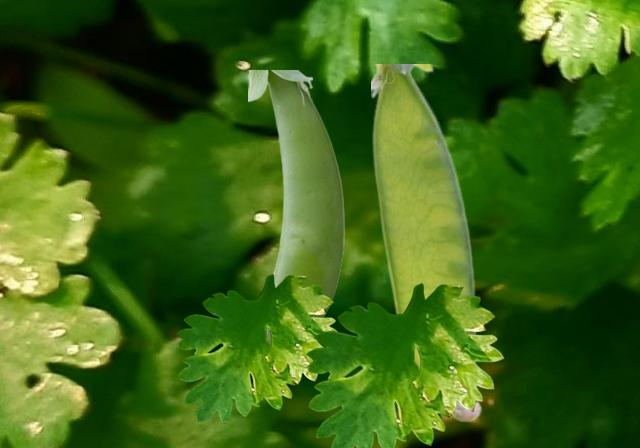pea: (371, 64, 481, 420), (248, 70, 343, 344)
